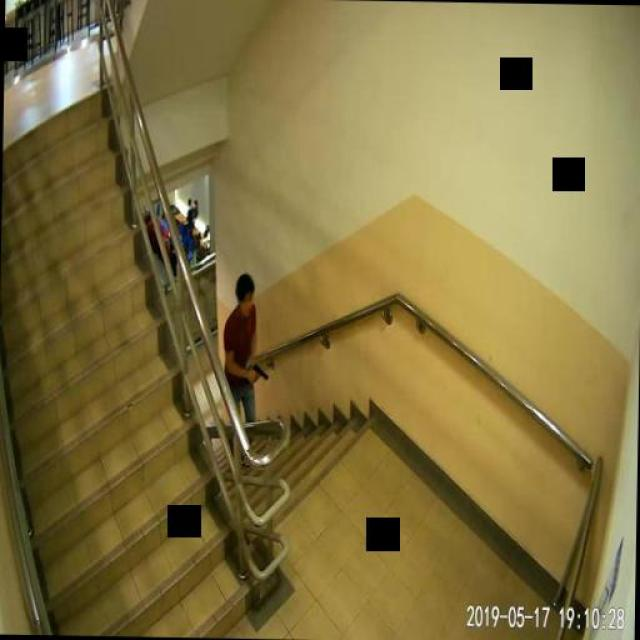gun: (252, 362, 268, 382)
